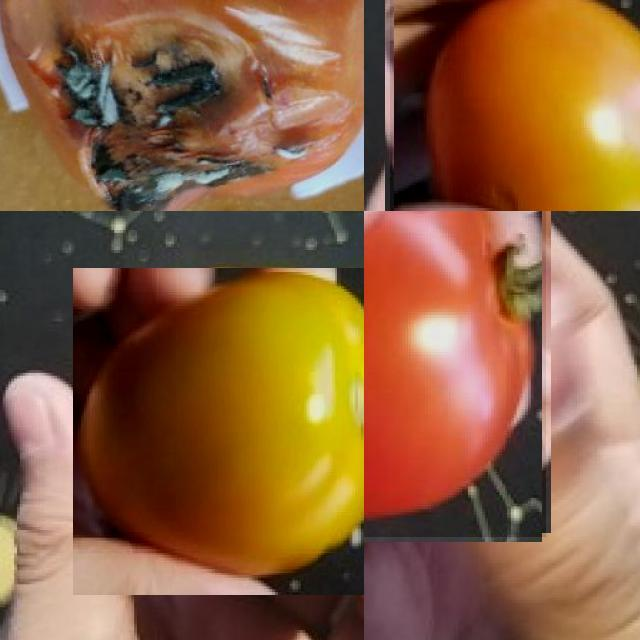Fresh Tomato: (73, 267, 364, 595), (364, 211, 546, 537)
Rotten Tomato: (0, 0, 364, 211), (389, 0, 640, 211)
